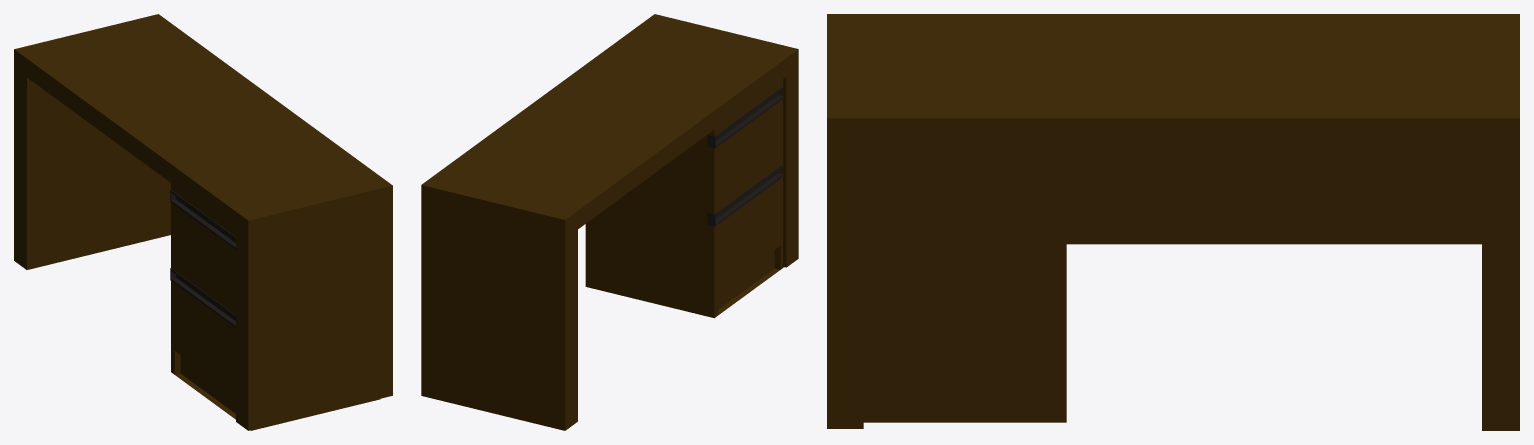
Rendered from Desk.fbx.
3 views of the same model, side by side, from view 1: azimuth 30°, elevation 25°; view 2: azimuth 150°, elevation 25°; view 3: azimuth 270°, elevation 25° (orthographic). The views are drawn at different scales.
Visible parts, largest first — view 1: Desk; view 2: Desk; view 3: Desk.
Boxes of the visible parts, left/top/right/bottom form: Desk: left=14, top=14, right=392, bottom=430; Desk: left=421, top=14, right=798, bottom=430; Desk: left=827, top=14, right=1519, bottom=430.
Bounding box in the file's own units: 56.03 × 78.45 × 157.
